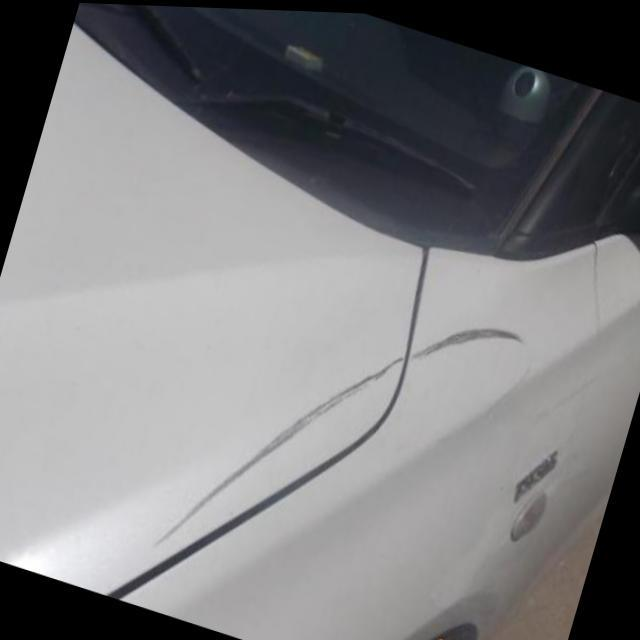scratch: (145, 320, 524, 554)
